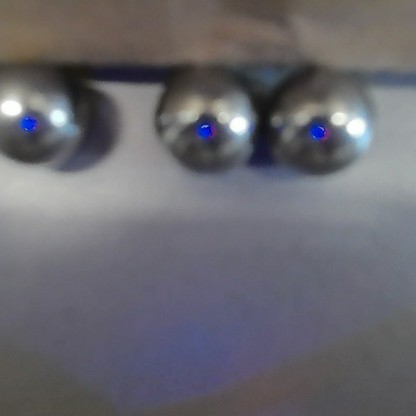ironball: (256, 59, 374, 178), (145, 60, 257, 179), (0, 56, 94, 174)
